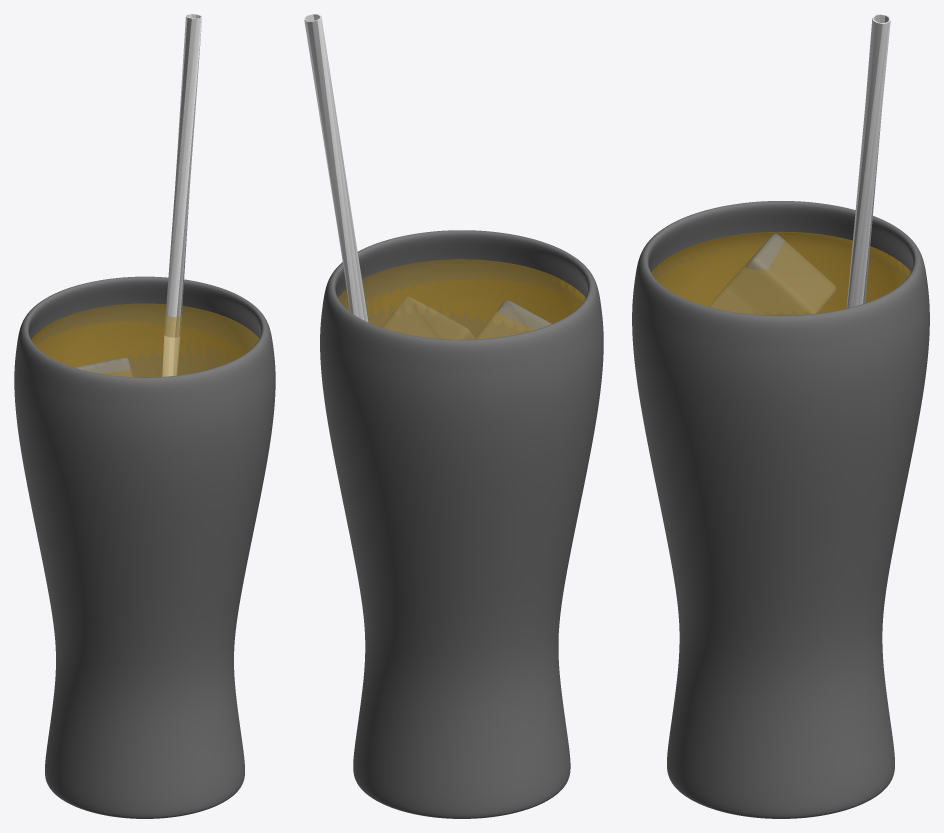
The model's file is 1773126691_cus.glb.
The picture shows the model from 3 angles, left to right: view 1: azimuth 30°, elevation 25°; view 2: azimuth 150°, elevation 25°; view 3: azimuth 270°, elevation 25°; orthographic projection. The views are drawn at different scales.
Visible parts, largest first — view 1: Cylinder, Cylinder.001, Cylinder.002, Cube.002; view 2: Cylinder, Cylinder.001, Cylinder.002, Cube.001, Cube.002; view 3: Cylinder, Cylinder.001, Cube.002, Cylinder.002.
Part boxes in pixels (<box>): Cylinder: <box>14,276,275,818</box>; Cylinder.001: <box>31,303,259,377</box>; Cylinder.002: <box>162,14,202,376</box>; Cube.002: <box>74,357,132,376</box>; Cylinder: <box>320,230,603,818</box>; Cylinder.001: <box>337,259,585,339</box>; Cylinder.002: <box>304,14,369,322</box>; Cube.001: <box>382,297,474,339</box>; Cube.002: <box>475,300,551,338</box>; Cylinder: <box>632,201,929,818</box>; Cylinder.001: <box>651,231,910,315</box>; Cube.002: <box>709,233,836,315</box>; Cylinder.002: <box>846,14,890,308</box>.
Bounding box in the file's own units: 255 × 764 × 255.
